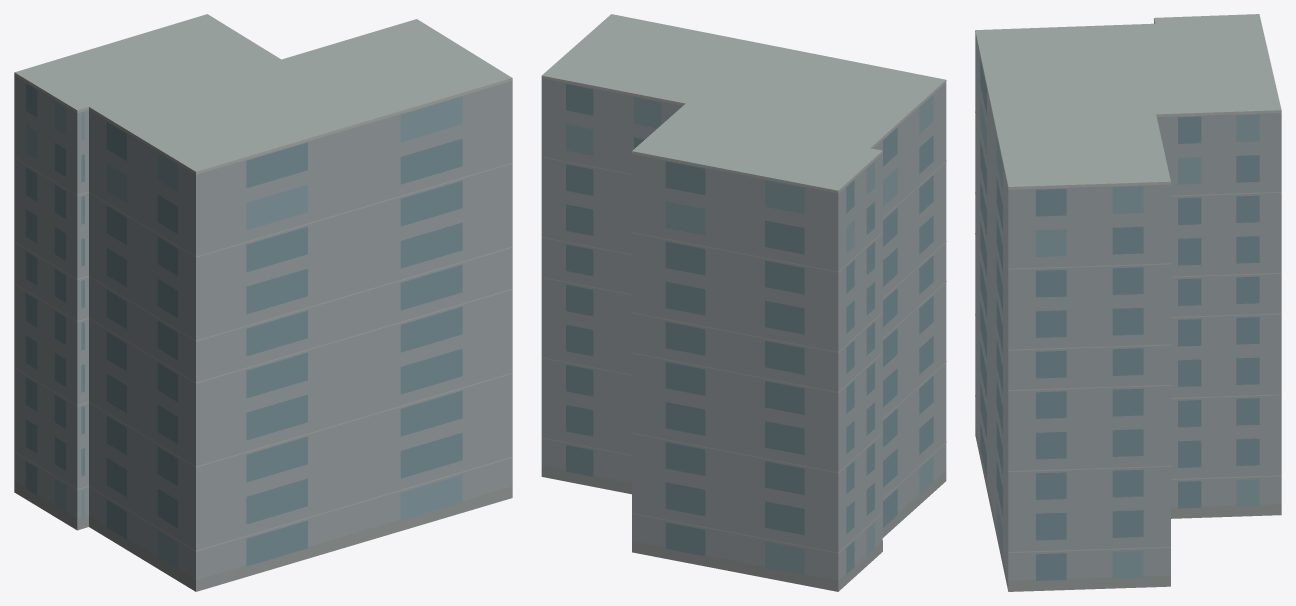
The model's file is survey-upis-32930580.glb.
3 renders of one model, left to right at view 1: azimuth 30°, elevation 25°; view 2: azimuth 150°, elevation 25°; view 3: azimuth 270°, elevation 25°, orthographic. The views are drawn at different scales.
Visible parts, largest first — view 1: survey-upis-32930580.tmp; view 2: survey-upis-32930580.tmp; view 3: survey-upis-32930580.tmp.
Part boxes in pixels (x1,y1,x2,y2): survey-upis-32930580.tmp: (14,14,512,591); survey-upis-32930580.tmp: (541,14,946,591); survey-upis-32930580.tmp: (975,14,1281,591).
Size of the model in its own units: 32.92 by 35.9 by 24.64.
